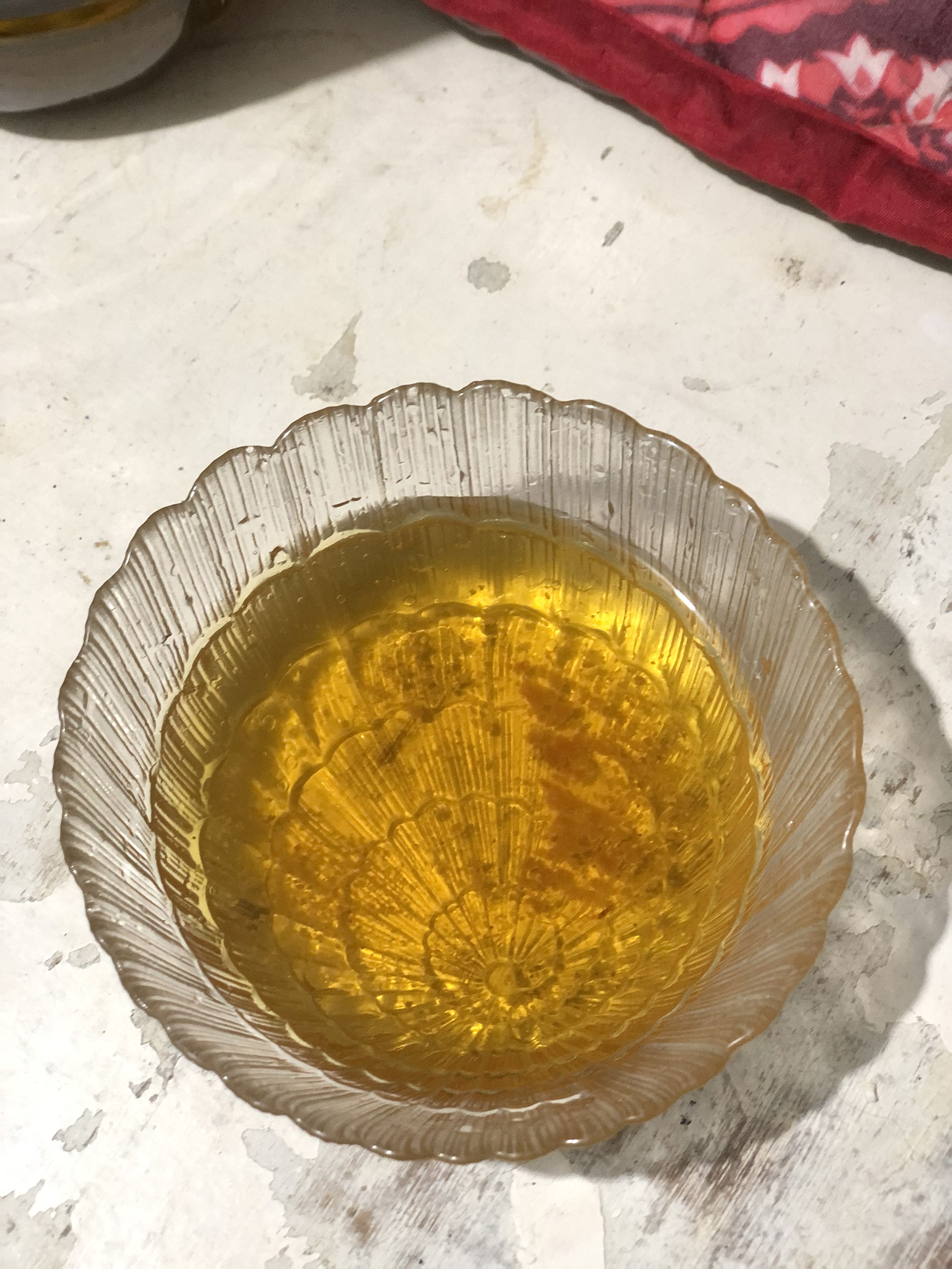reusable: (161, 497, 762, 1098)
